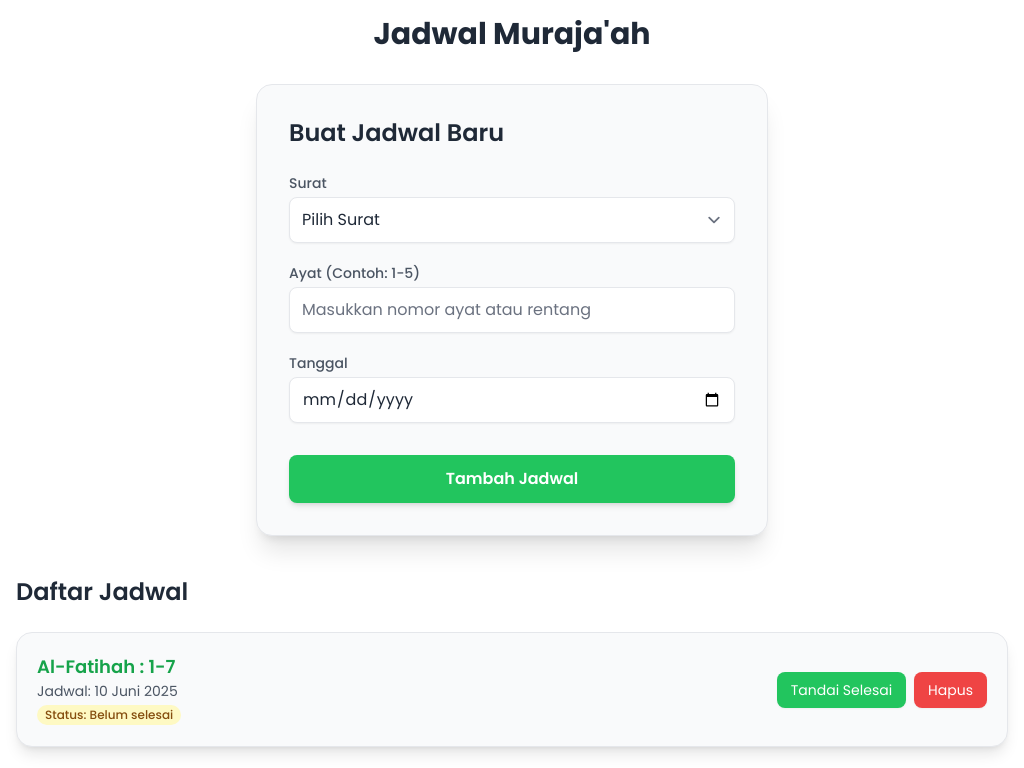
Test: Reminder Page › Authenticated User › Reminder List Item Functionality › "Tandai Selesai" button works
The image size is (1024, 768).
Expected: the text "Al-Fatihah : 1-7" is shown, [37,653,181,681]
Click the button "Tandai Selesai".
click(842, 690)  # box [777,672,906,708]
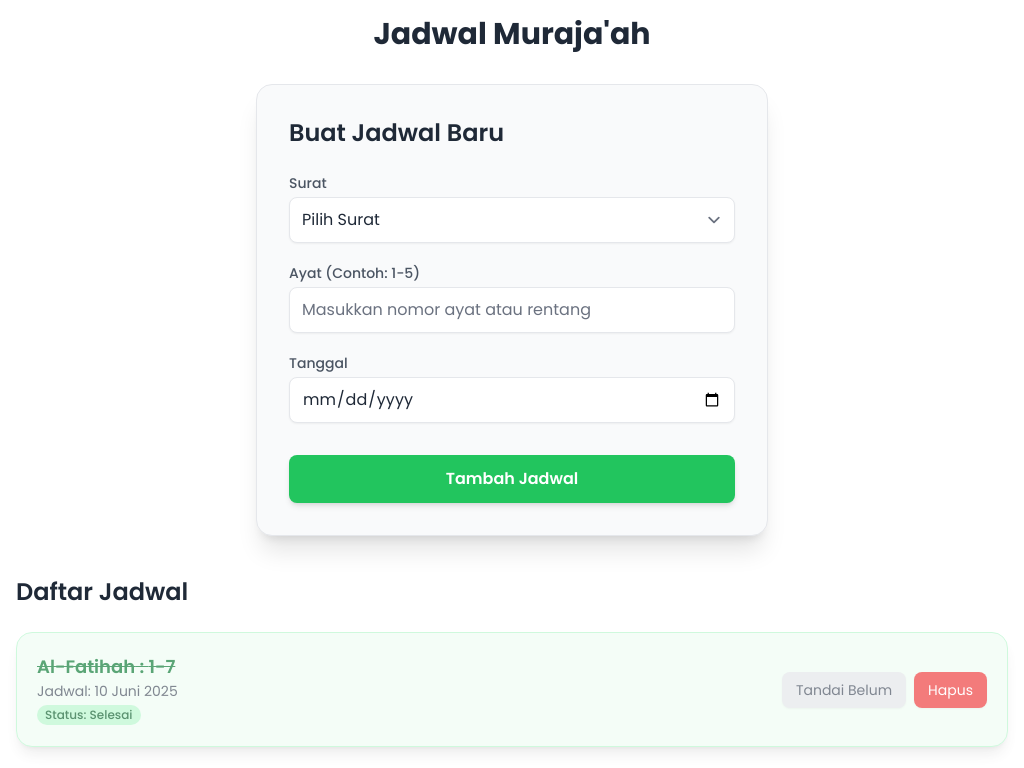
Expected: the text "Status: Selesai" is shown, [37,705,140,725]
Expected: the button "Tandai Belum" is shown, [782,672,906,708]
